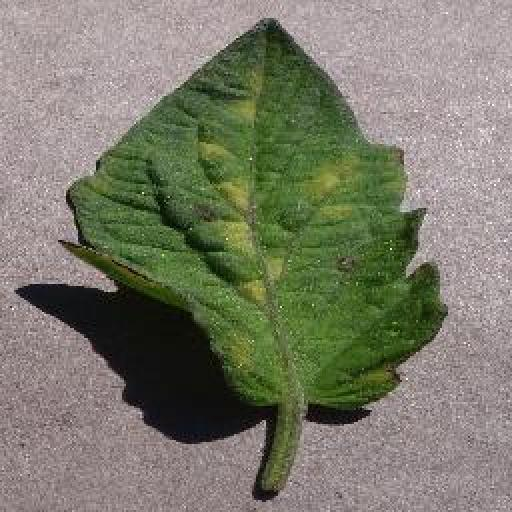disease_tomato: (50, 17, 447, 411)
